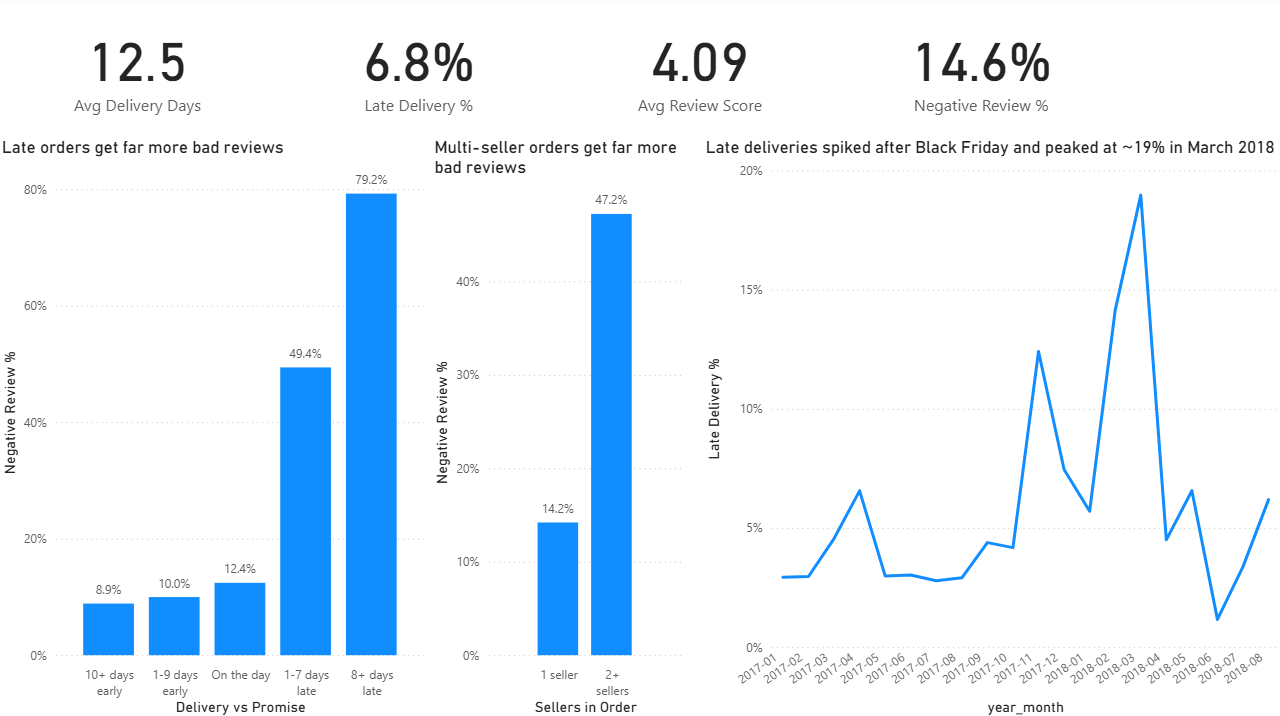

What the dashboard file says about the page in this screenshot:
{"tool":"powerbi","page":{"name":"Delivery and satisfaction","canvas":[1280,720],"ordinal":2},"visuals":[{"type":"card","fields":{"Values":["_Measures.Avg Delivery Days"]},"box":[0,0,279.9,140],"z":0},{"type":"card","fields":{"Values":["_Measures.Avg Review Score"]},"box":[559.9,0,279.9,140],"z":1000},{"type":"card","fields":{"Values":["_Measures.Negative Review %"]},"box":[839.8,0,279.9,140],"z":2000},{"type":"card","fields":{"Values":["_Measures.Late Delivery %"]},"box":[279.9,0,279.9,140],"z":3000},{"type":"clusteredColumnChart","title":"Late orders get far more bad reviews","fields":{"Category":["fct_orders.Delivery vs Promise"],"Y":["_Measures.Negative Review %"]},"box":[0,140,430.9,580.4],"z":4000},{"type":"clusteredColumnChart","title":"Multi-seller orders get far more bad reviews","fields":{"Category":["fct_orders.Sellers in Order"],"Y":["_Measures.Negative Review %"]},"box":[430.9,140,256.6,580.4],"z":5000},{"type":"lineChart","title":"Late deliveries spiked after Black Friday and peaked at ~19% in March 2018","fields":{"Category":["dim_date.year_month"],"Y":["_Measures.Late Delivery %"]},"box":[699.8,140,580.4,580.4],"z":6000}]}

Visuals, with their boxes in screenshot pixels (x1, y1, x2, y2), scaled from the page's 1280x720 canvas onto the 1280x716 screenshot:
card - _Measures.Avg Delivery Days: left=0, top=0, right=280, bottom=139
card - _Measures.Avg Review Score: left=560, top=0, right=840, bottom=139
card - _Measures.Negative Review %: left=840, top=0, right=1120, bottom=139
card - _Measures.Late Delivery %: left=280, top=0, right=560, bottom=139
"Late orders get far more bad reviews" clusteredColumnChart: left=0, top=139, right=431, bottom=715
"Multi-seller orders get far more bad reviews" clusteredColumnChart: left=431, top=139, right=688, bottom=715
"Late deliveries spiked after Black Friday and peaked at ~19% in March 2018" lineChart: left=700, top=139, right=1279, bottom=715
